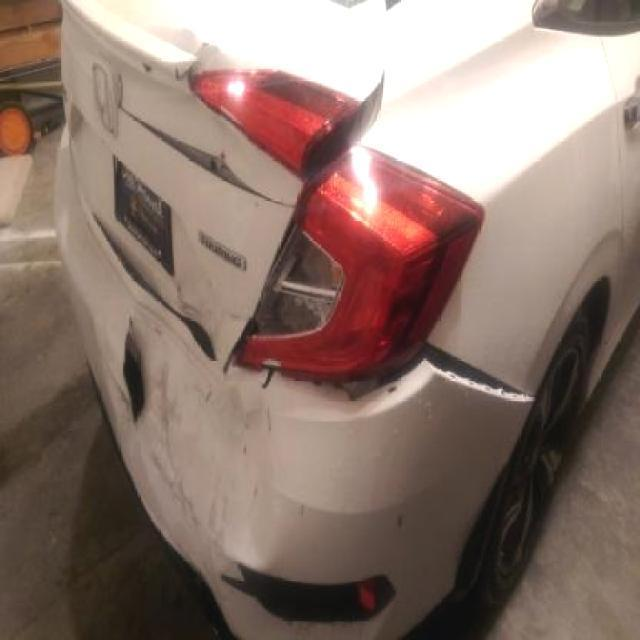minor: (100, 77, 302, 568)
